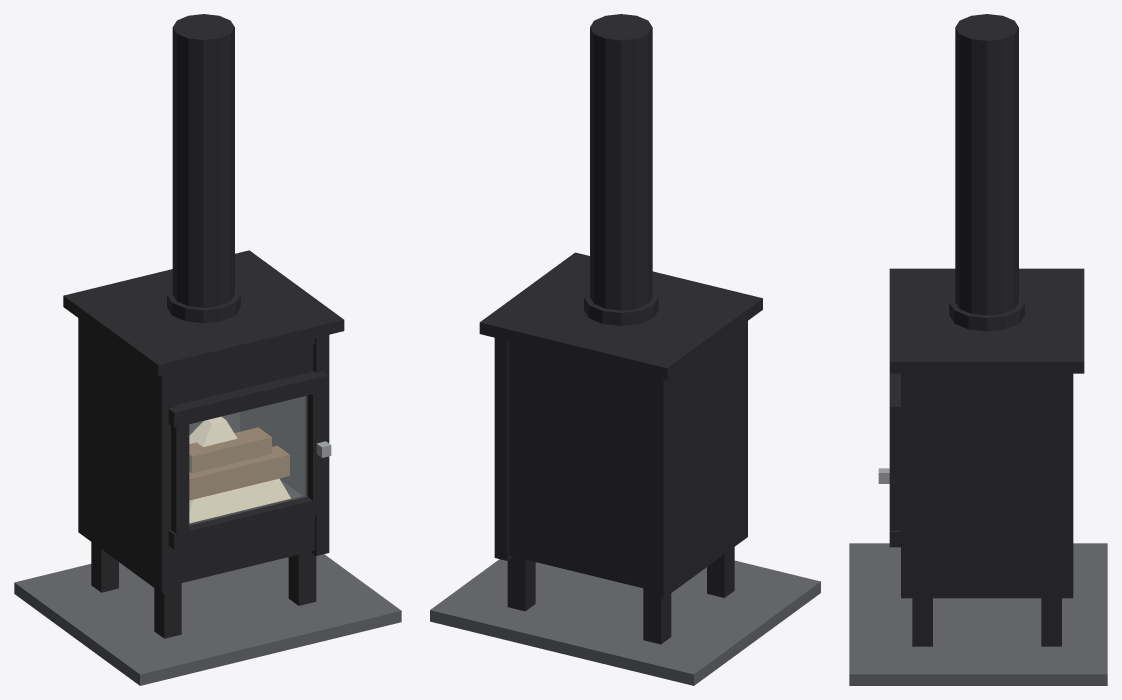
Rendered from FN_Stove_Wood.glb.
The picture shows the model from 3 angles, left to right: view 1: azimuth 30°, elevation 25°; view 2: azimuth 150°, elevation 25°; view 3: azimuth 270°, elevation 25°; orthographic projection. The views are drawn at different scales.
Parts seen in each view (by area): view 1: FN_Stove_Wood; view 2: FN_Stove_Wood; view 3: FN_Stove_Wood.
Boxes of the visible parts, x1,y1,x2,y2 form: FN_Stove_Wood: [14, 14, 401, 685]; FN_Stove_Wood: [430, 14, 820, 685]; FN_Stove_Wood: [849, 14, 1107, 685].
Bounding box in the file's own units: 0.72 × 1.52 × 0.6.
3 materials, 2 textured.
